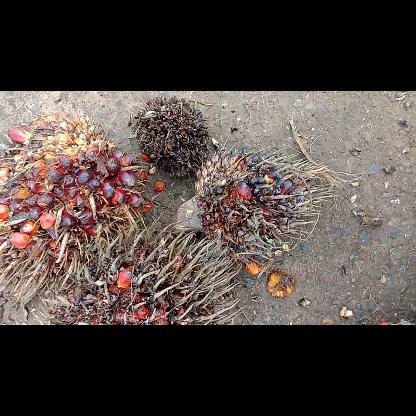TBS abnormal: (172, 145, 340, 266), (132, 93, 214, 180)
TBS masak: (0, 111, 154, 309)
Terlalu masak: (52, 220, 246, 324)
